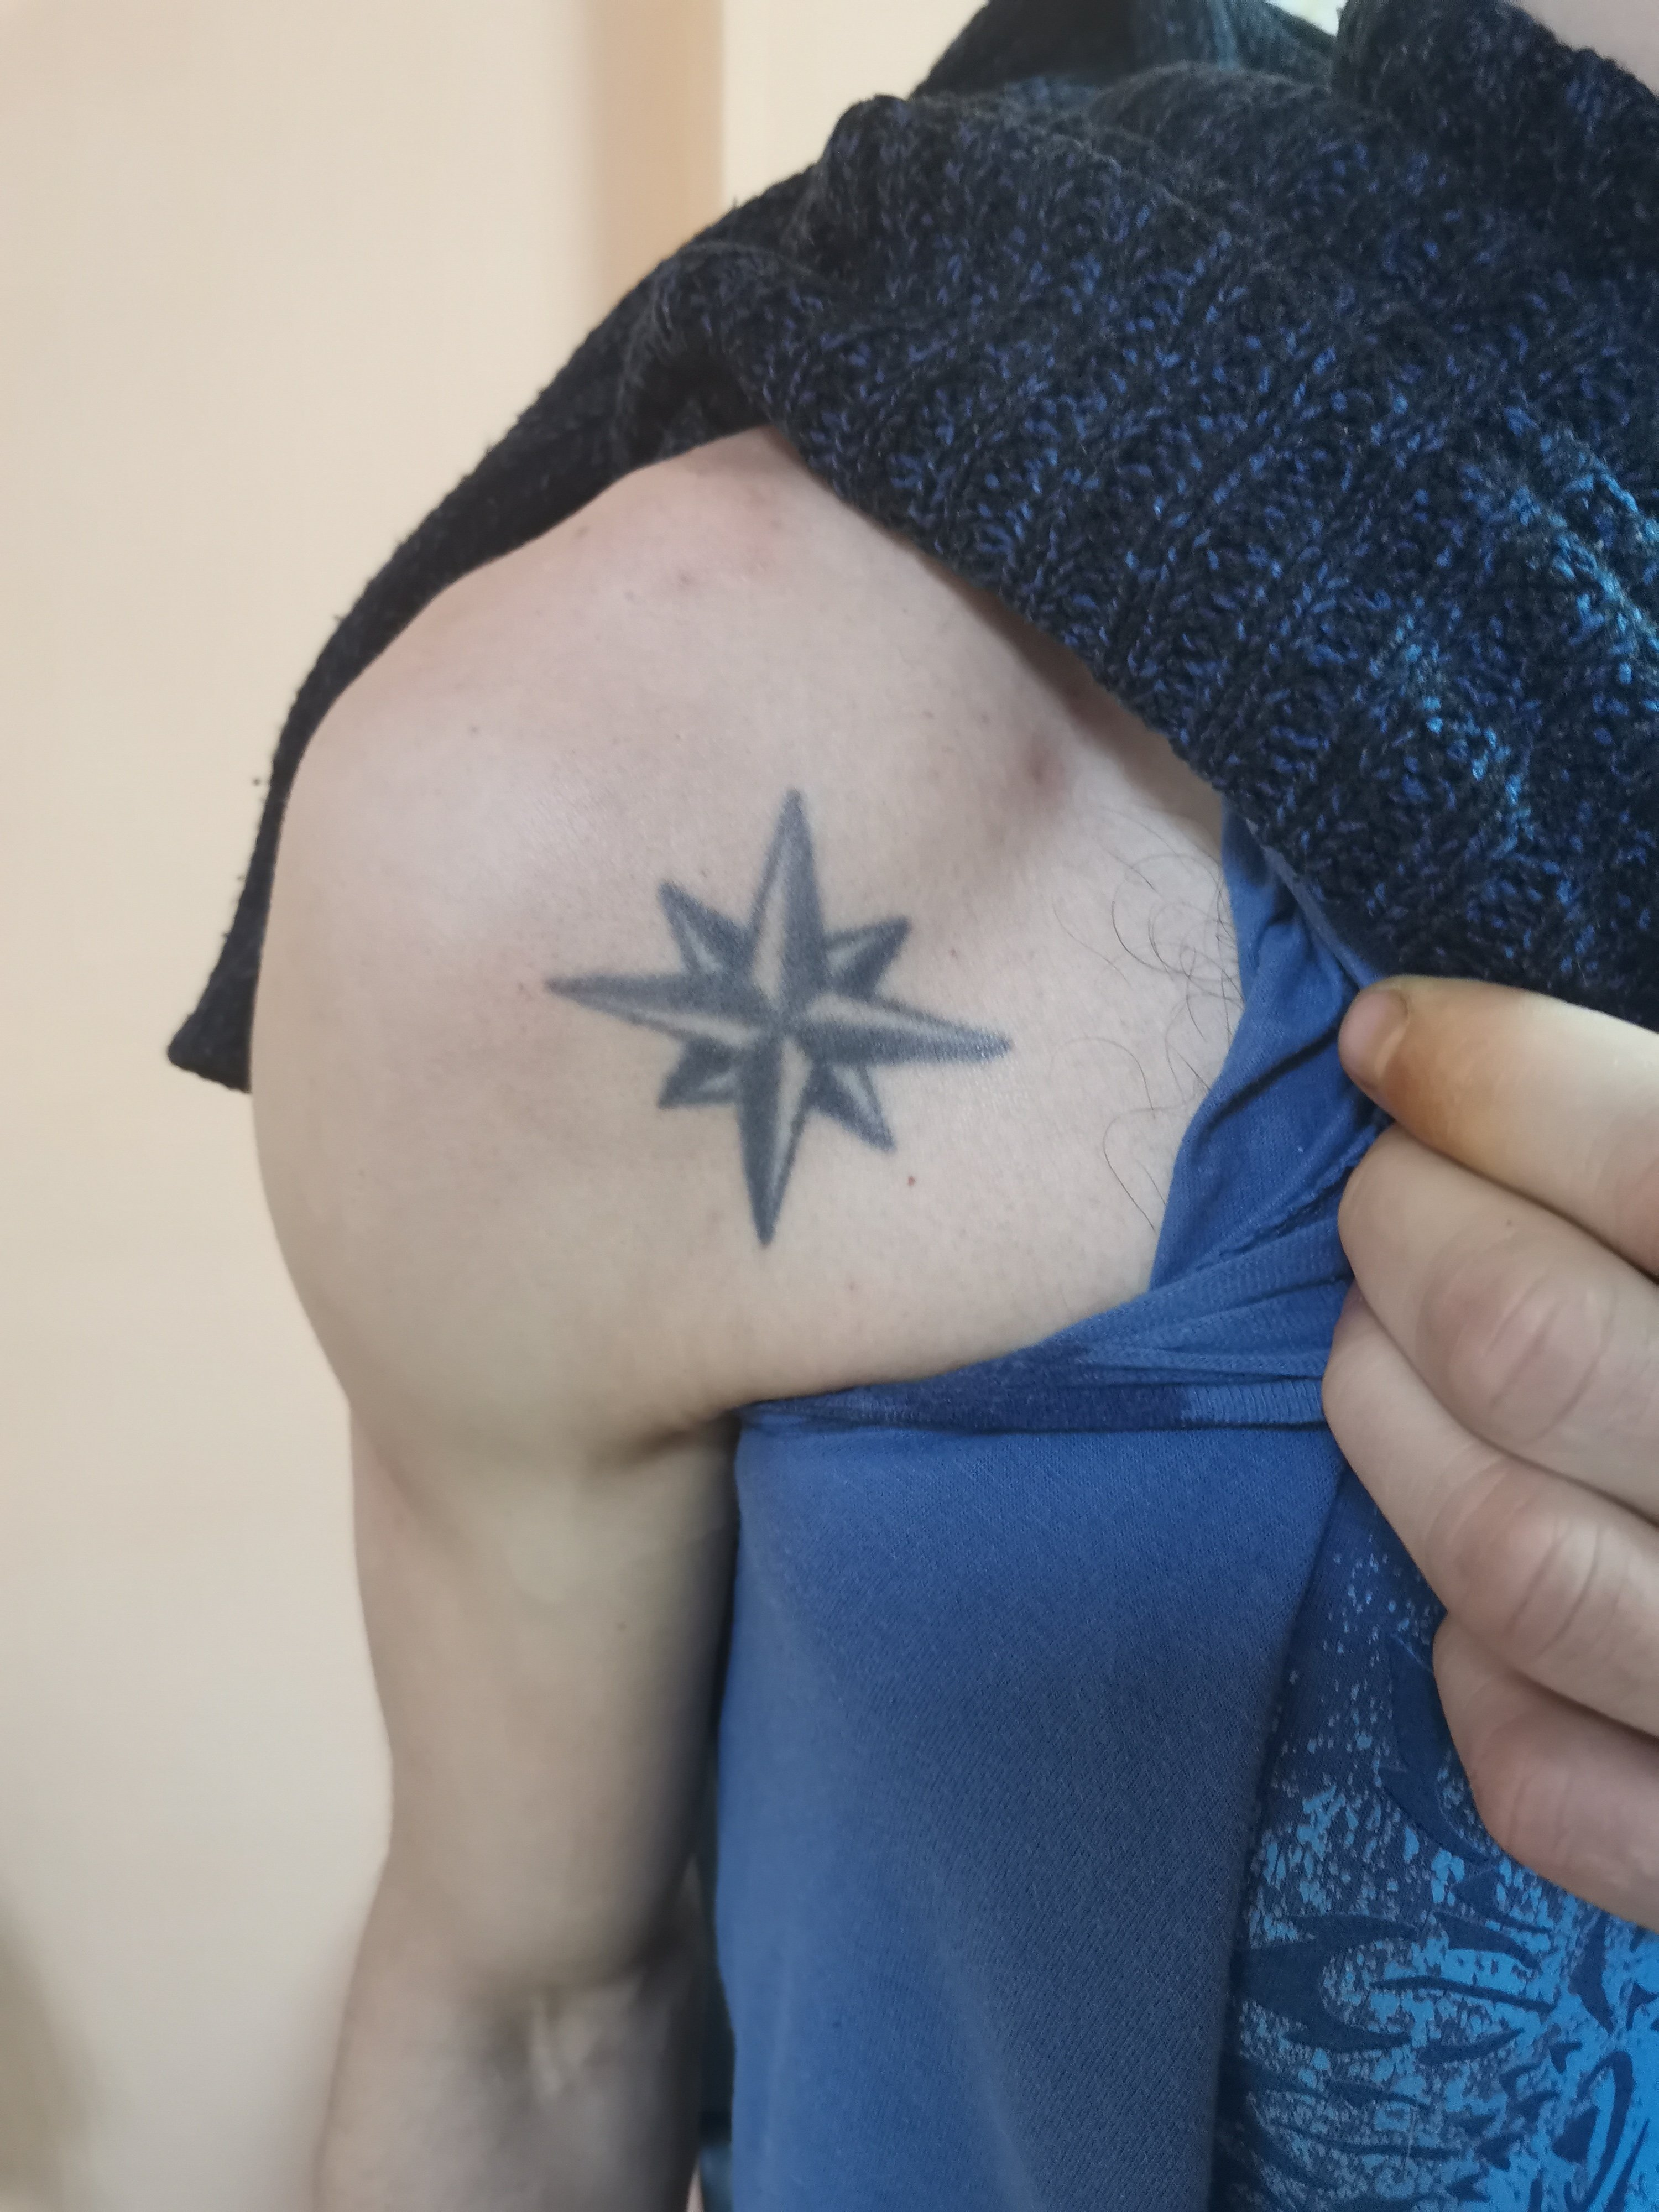tatu4_zvezda: (544, 791, 1023, 1251)
